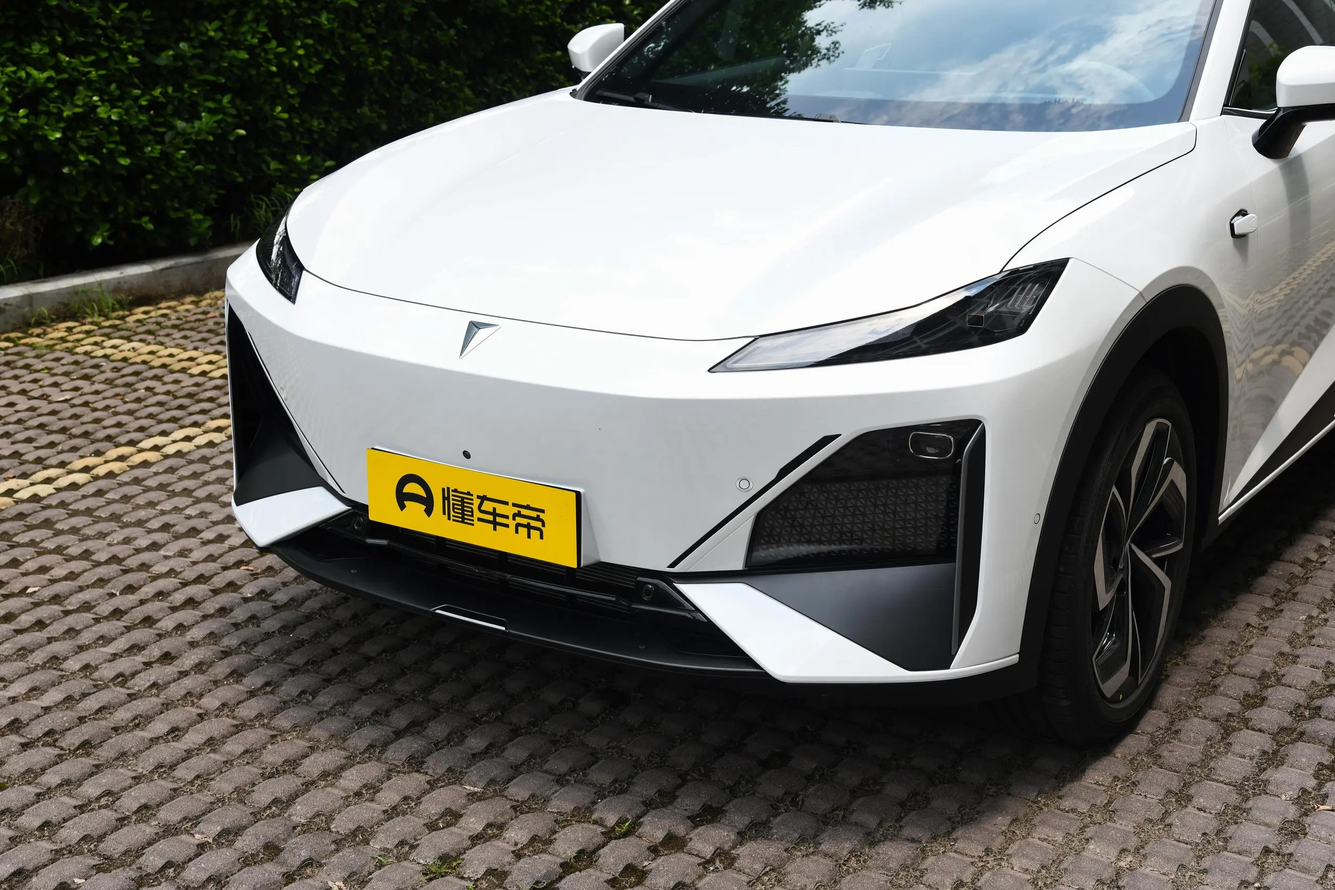Deepal: (459, 320, 500, 359)
